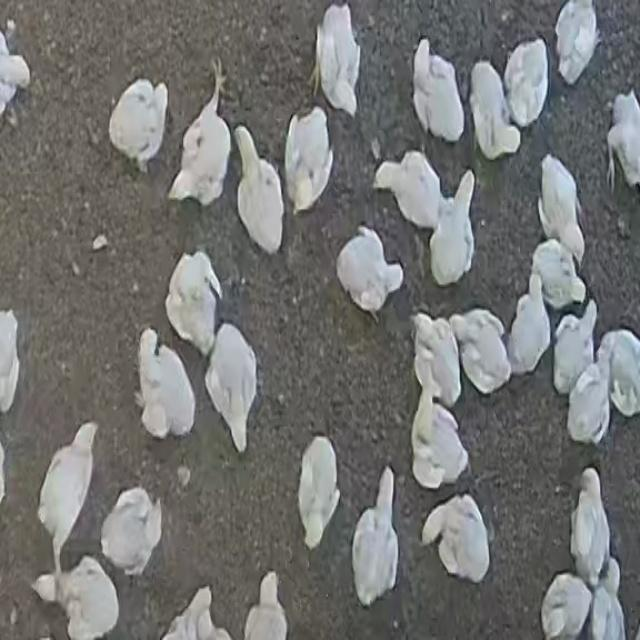chicken: (168, 57, 232, 216), (37, 422, 100, 574), (202, 319, 262, 460), (231, 123, 288, 259), (333, 222, 405, 325), (135, 327, 196, 442), (102, 76, 172, 174), (352, 467, 399, 605), (422, 493, 492, 585), (410, 388, 469, 492), (410, 39, 466, 144), (165, 253, 221, 356), (429, 170, 478, 286), (99, 487, 161, 578), (375, 151, 444, 232), (314, 3, 361, 117), (469, 59, 522, 160), (538, 156, 586, 266), (283, 108, 333, 212), (452, 308, 511, 394), (570, 468, 612, 588), (411, 312, 463, 408), (297, 436, 341, 549), (506, 276, 553, 376), (552, 300, 599, 396), (504, 38, 550, 127), (567, 356, 612, 444), (530, 239, 584, 312), (553, 0, 599, 82), (605, 88, 640, 192), (600, 330, 640, 417), (242, 571, 287, 640)
